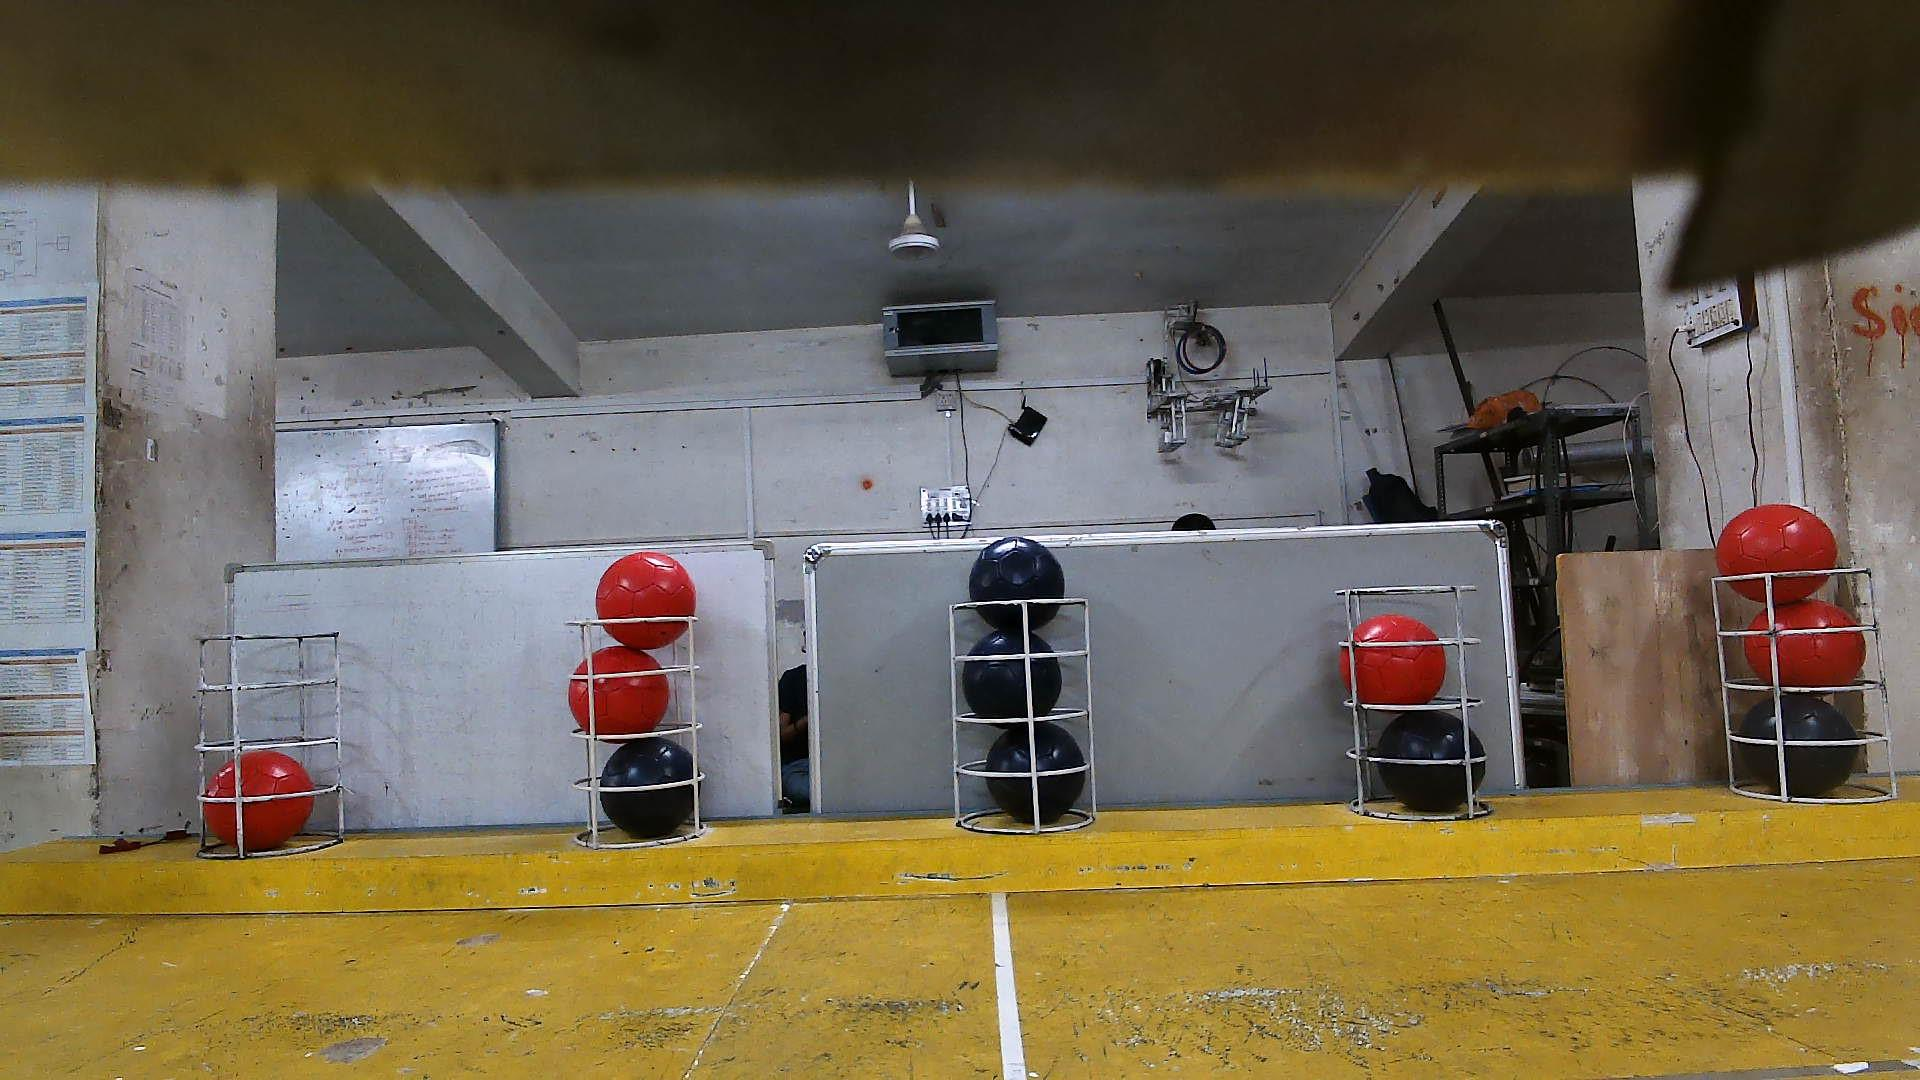dhoka: (1740, 696, 1858, 793), (1379, 711, 1485, 812), (600, 738, 702, 837), (962, 629, 1061, 728), (985, 723, 1085, 820), (968, 536, 1065, 631)
laale: (1718, 502, 1838, 606), (204, 751, 314, 850), (1744, 599, 1863, 686), (596, 551, 698, 649), (569, 646, 668, 744), (1341, 615, 1441, 704)
